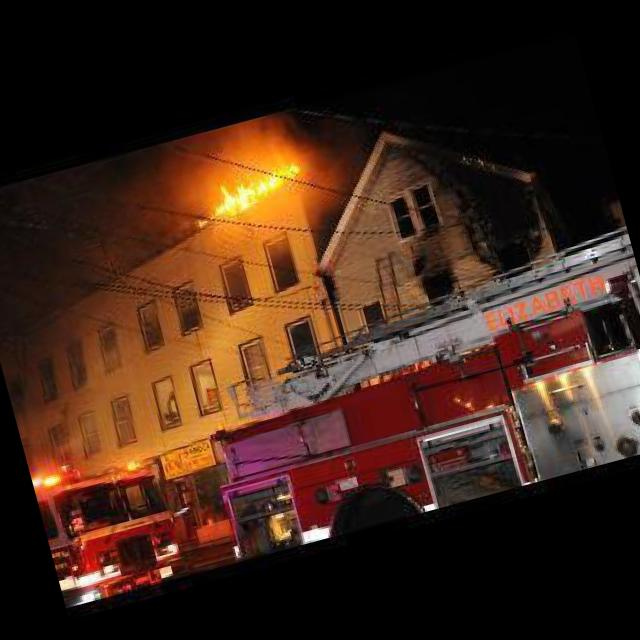Fire: (197, 158, 307, 220)
